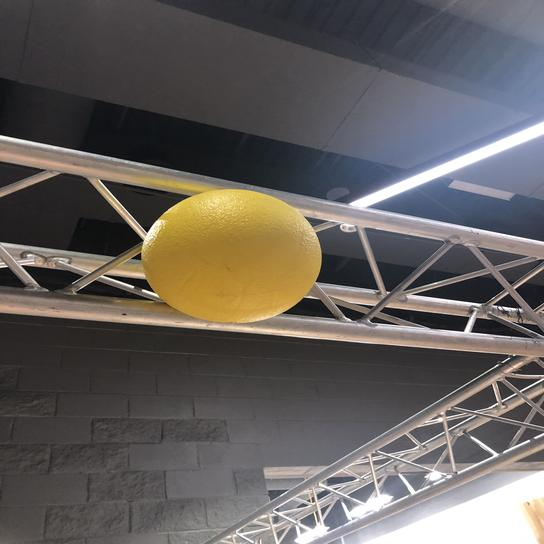ball: (137, 183, 323, 325)
